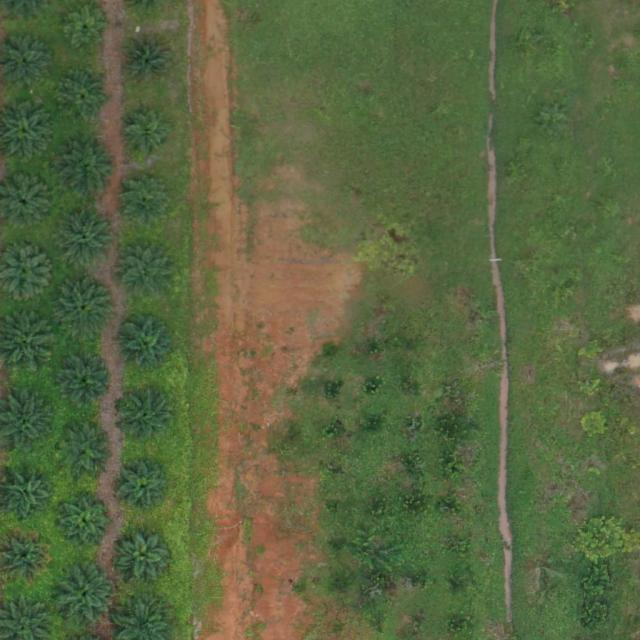Healthy: (115, 314, 178, 377), (55, 138, 118, 200), (58, 208, 120, 271), (54, 277, 116, 340), (53, 565, 115, 627), (59, 71, 114, 126), (57, 354, 112, 409), (59, 424, 114, 479), (119, 173, 174, 228), (119, 245, 174, 300), (121, 389, 176, 444), (118, 461, 173, 516), (119, 529, 174, 584), (57, 494, 112, 549)
Small: (119, 110, 174, 165), (122, 36, 176, 91), (64, 7, 111, 54)
